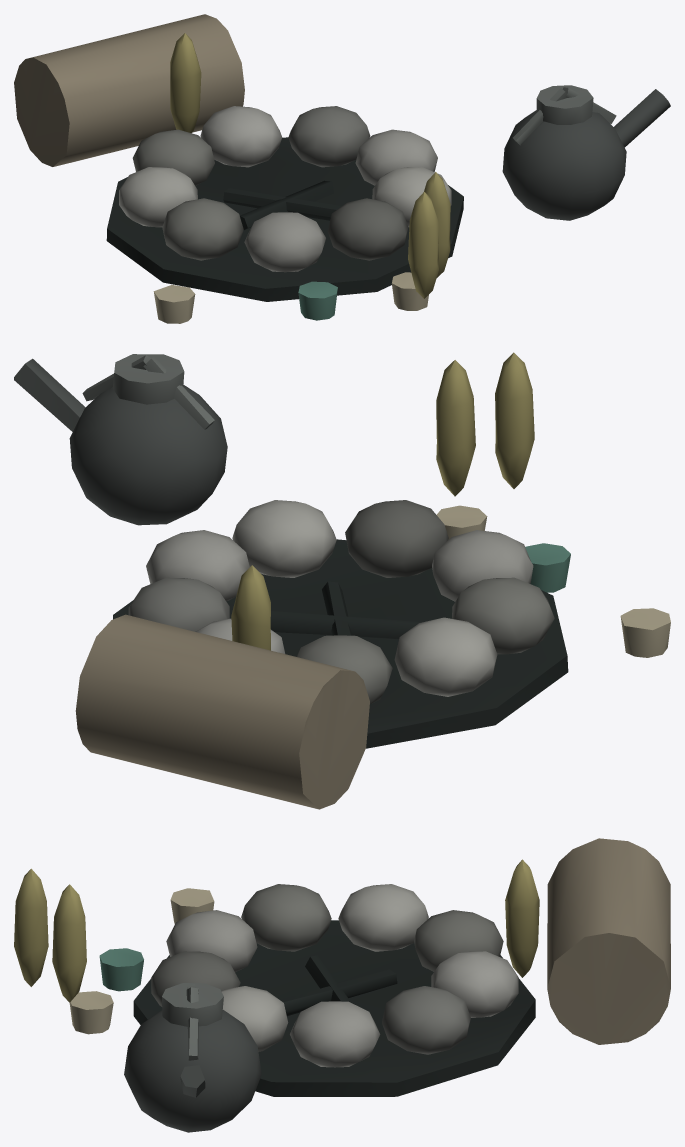
File: tea_hearth_b_lod1.glb
3 renders of one model, top to bottom at view 1: azimuth 30°, elevation 25°; view 2: azimuth 150°, elevation 25°; view 3: azimuth 270°, elevation 25°, orthographic. The views are drawn at different scales.
Visible parts, largest first — view 1: Surface.001; view 2: Surface.001; view 3: Surface.001.
Part boxes in pixels (box(x1,y1,x2,y2)): Surface.001: box(14, 14, 670, 323); Surface.001: box(14, 352, 670, 809); Surface.001: box(14, 838, 670, 1132).
Size of the model in its own units: 3.21 by 0.8157 by 3.24.
